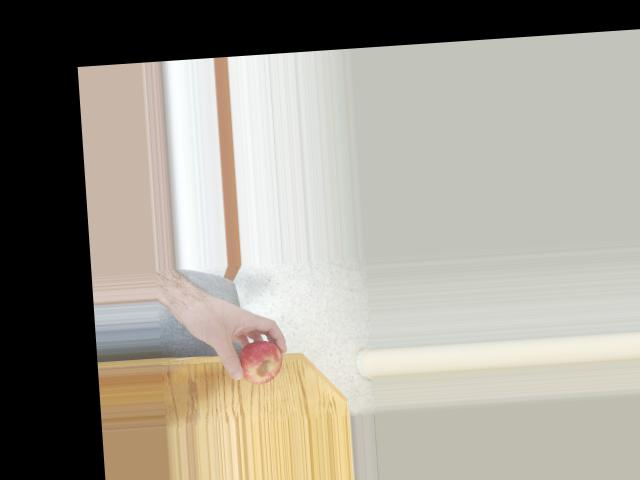apple: (232, 335, 285, 384)
